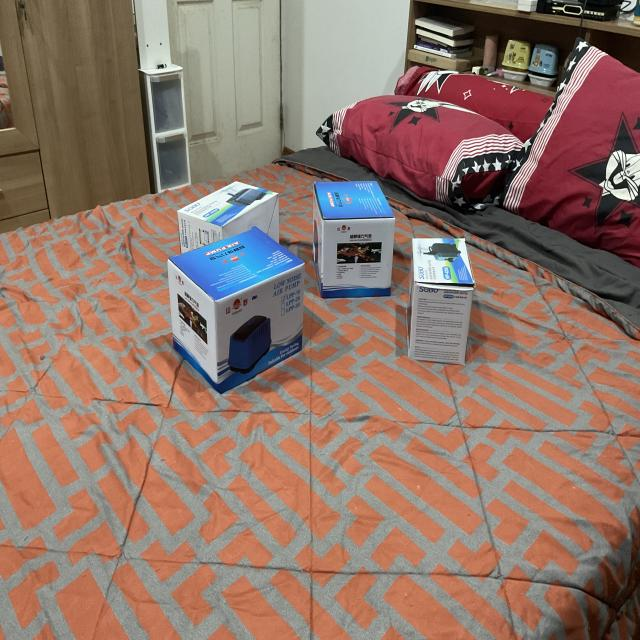SOBO_WP_4200: (174, 170, 294, 300), (405, 232, 494, 394)
YAMANO_LPP_20: (162, 233, 318, 405), (308, 175, 405, 311)
